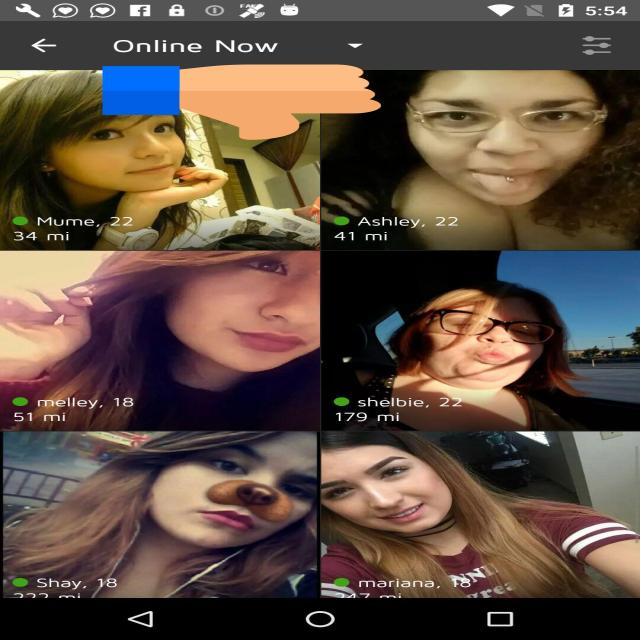obstruction: (103, 62, 381, 142)
